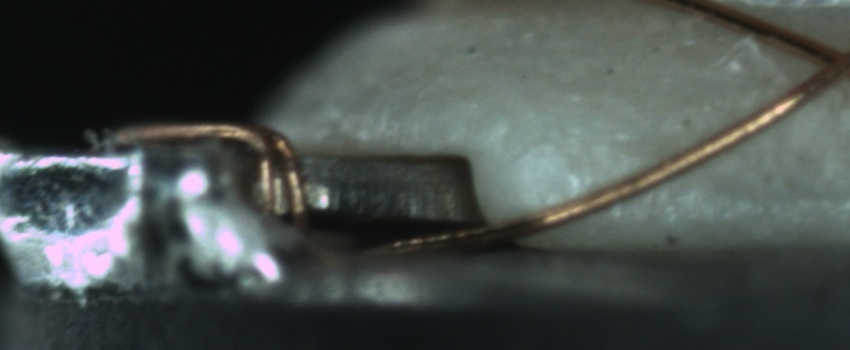CL: (793, 29, 849, 97)
DL: (512, 114, 651, 165)
TE: (103, 118, 315, 235)
